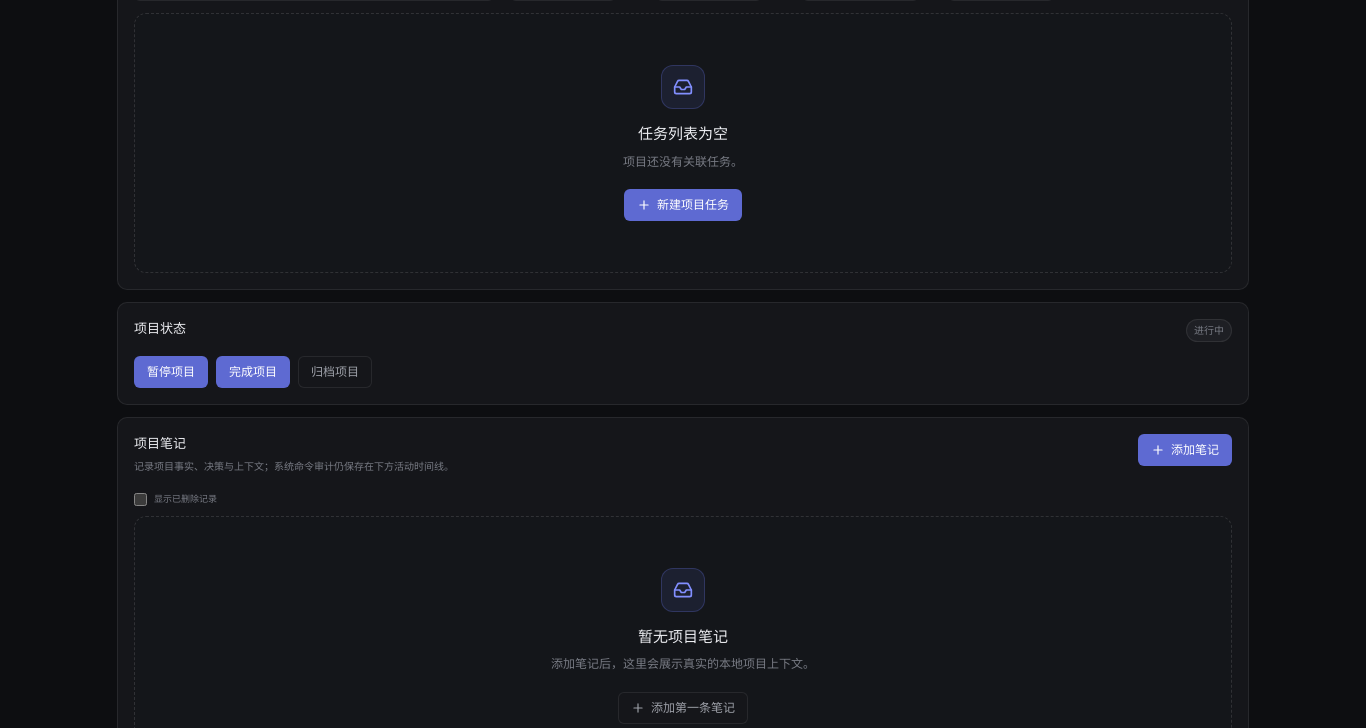
Scenario: ProjectDetailPage › opens confirmation when the server detects newly added open tasks
The image size is (1366, 728).
(page scrolled)
Click the button "完成项目" at x=253, y=372, box [216,356,290,388]
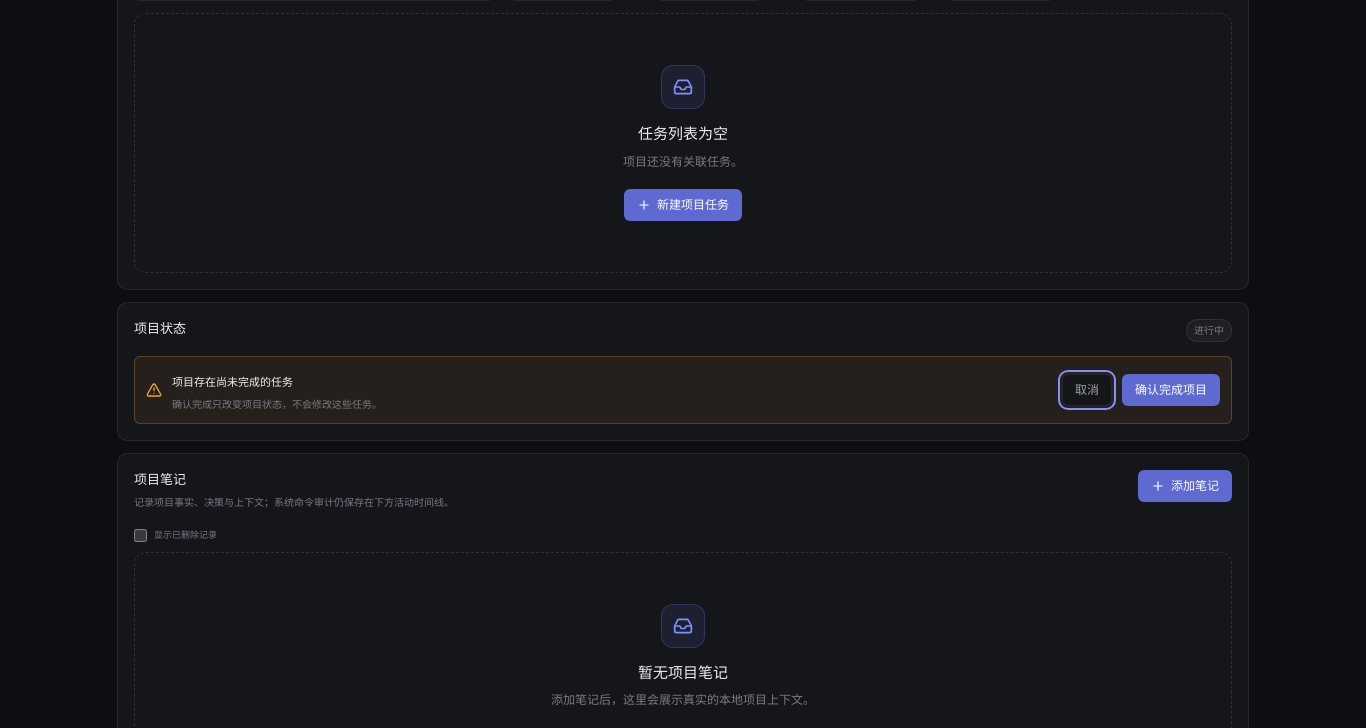
expect the button "确认完成项目" is shown: met, box [1122,374,1220,406]
expect the text "项目存在尚未完成的任务" is shown: met, box [172,375,293,389]
